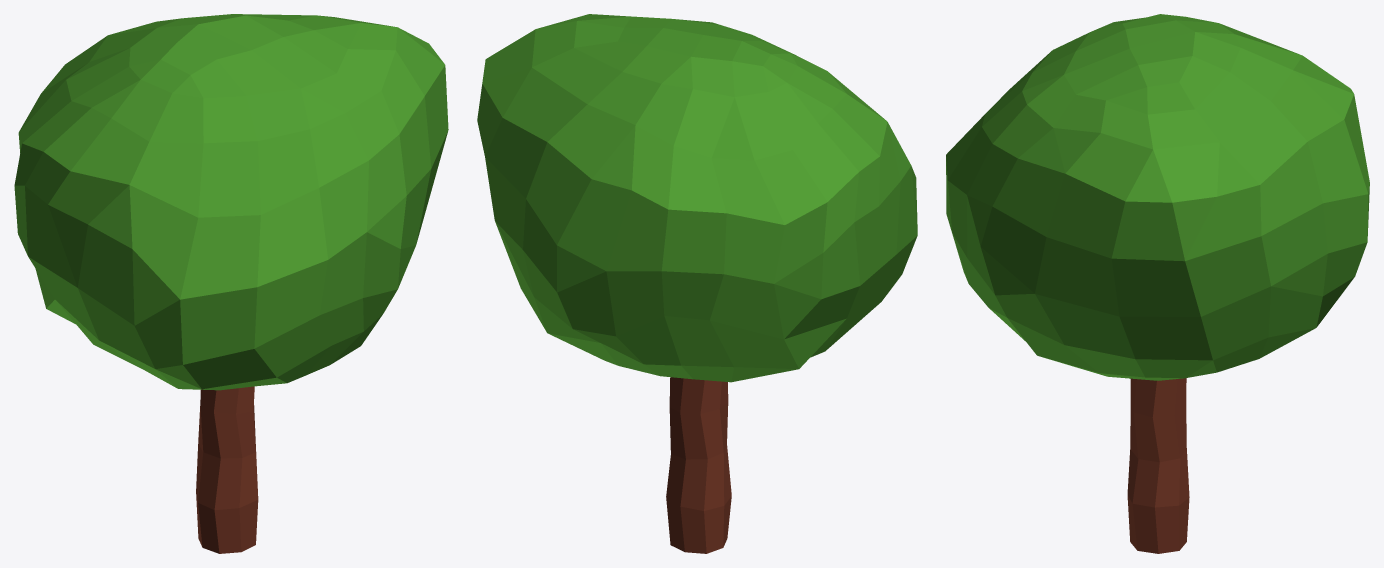
The model's file is maya_export_Tree3_v2.fbx.
3 renders of one model, left to right at view 1: azimuth 30°, elevation 25°; view 2: azimuth 150°, elevation 25°; view 3: azimuth 270°, elevation 25°, orthographic.
Parts seen in each view (by area): view 1: Tree3_v2; view 2: Tree3_v2; view 3: Tree3_v2.
Part boxes in pixels (x1,y1,x2,y2): Tree3_v2: [14, 14, 448, 553]; Tree3_v2: [477, 14, 917, 553]; Tree3_v2: [946, 14, 1369, 553].
Bounding box in the file's own units: 5.97 × 7.38 × 5.61.
Materials: 1 (1 with a texture image).
